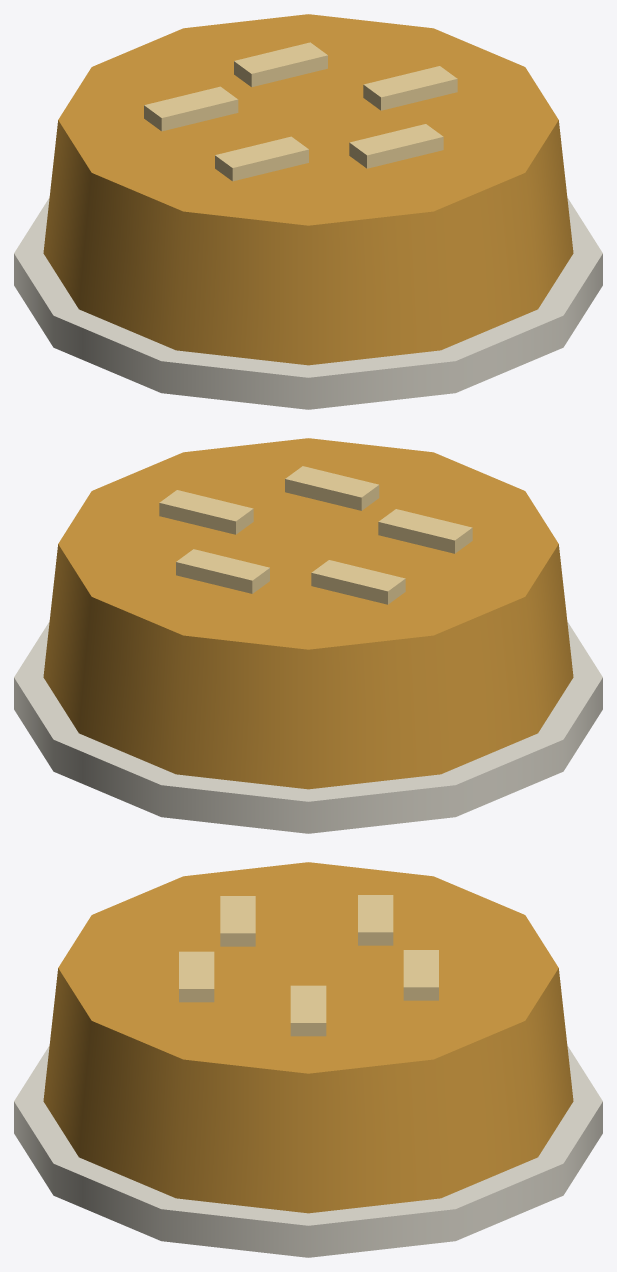
The model's file is good-charlotte.glb.
The picture shows the model from 3 angles, top to bottom: view 1: azimuth 30°, elevation 25°; view 2: azimuth 150°, elevation 25°; view 3: azimuth 270°, elevation 25°; orthographic projection.
Visible parts, largest first — view 1: #d8a040, #e4e0d4, #f0d8a0_noshadow; view 2: #d8a040, #e4e0d4, #f0d8a0_noshadow; view 3: #d8a040, #e4e0d4, #f0d8a0_noshadow.
Boxes of the visible parts, bbox=[...] form: #d8a040: bbox=[43, 14, 573, 365]; #e4e0d4: bbox=[14, 197, 602, 409]; #f0d8a0_noshadow: bbox=[144, 42, 457, 181]; #d8a040: bbox=[43, 438, 573, 789]; #e4e0d4: bbox=[14, 621, 602, 833]; #f0d8a0_noshadow: bbox=[159, 466, 472, 604]; #d8a040: bbox=[43, 862, 573, 1213]; #e4e0d4: bbox=[14, 1045, 602, 1257]; #f0d8a0_noshadow: bbox=[179, 895, 438, 1036].
Size of the model in its own units: 0.2 by 0.067 by 0.2.
